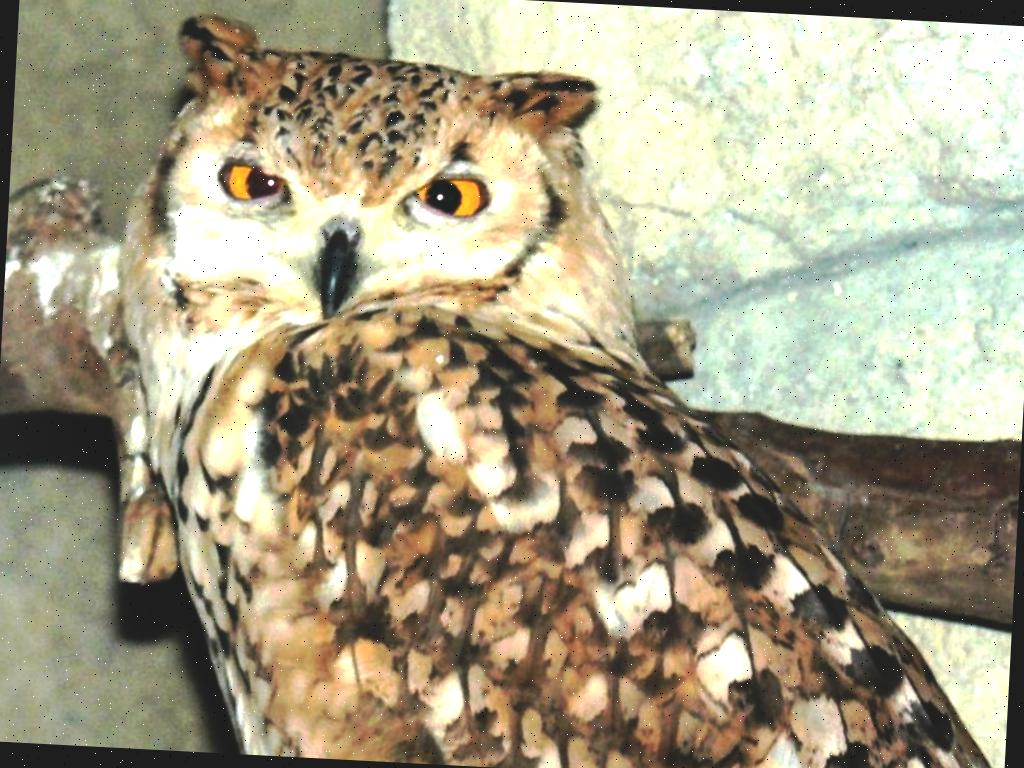Owl: (92, 7, 1024, 768)
